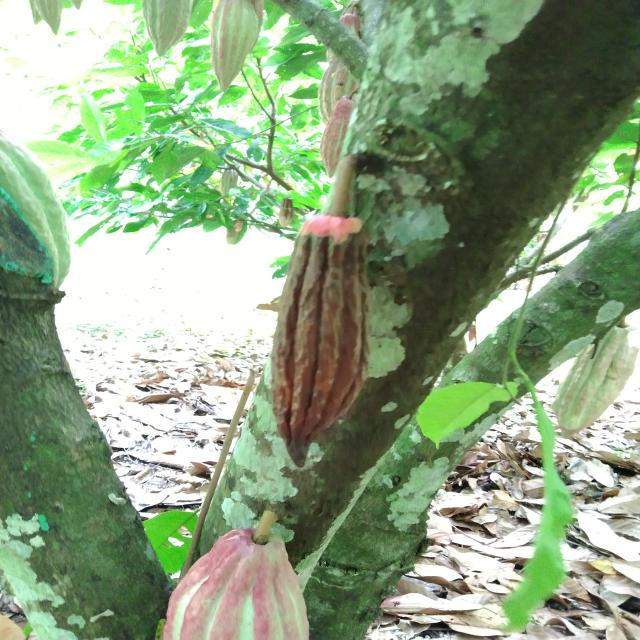Fitoftora: (269, 211, 382, 466)
Sana: (153, 529, 314, 640), (552, 319, 636, 439), (206, 0, 260, 92), (141, 0, 187, 58), (328, 93, 352, 160)
